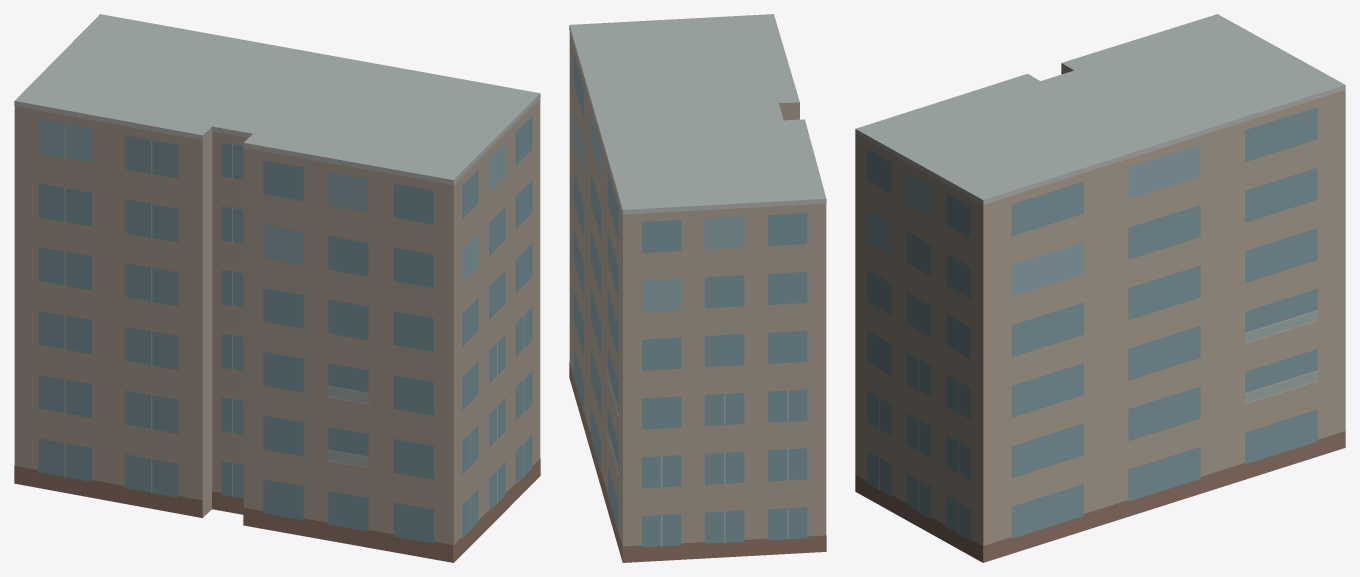
The model's file is survey-upis-32596922.glb.
The picture shows the model from 3 angles, left to right: view 1: azimuth 30°, elevation 25°; view 2: azimuth 150°, elevation 25°; view 3: azimuth 270°, elevation 25°; orthographic projection. The views are drawn at different scales.
Parts seen in each view (by area): view 1: survey-upis-32596922.tmp; view 2: survey-upis-32596922.tmp; view 3: survey-upis-32596922.tmp.
Boxes of the visible parts, x1,y1,x2,y2 form: survey-upis-32596922.tmp: (14,14,540,562); survey-upis-32596922.tmp: (569,14,826,562); survey-upis-32596922.tmp: (855,14,1345,562).
Bounding box in the file's own units: 20.36 × 18.5 × 22.67.
